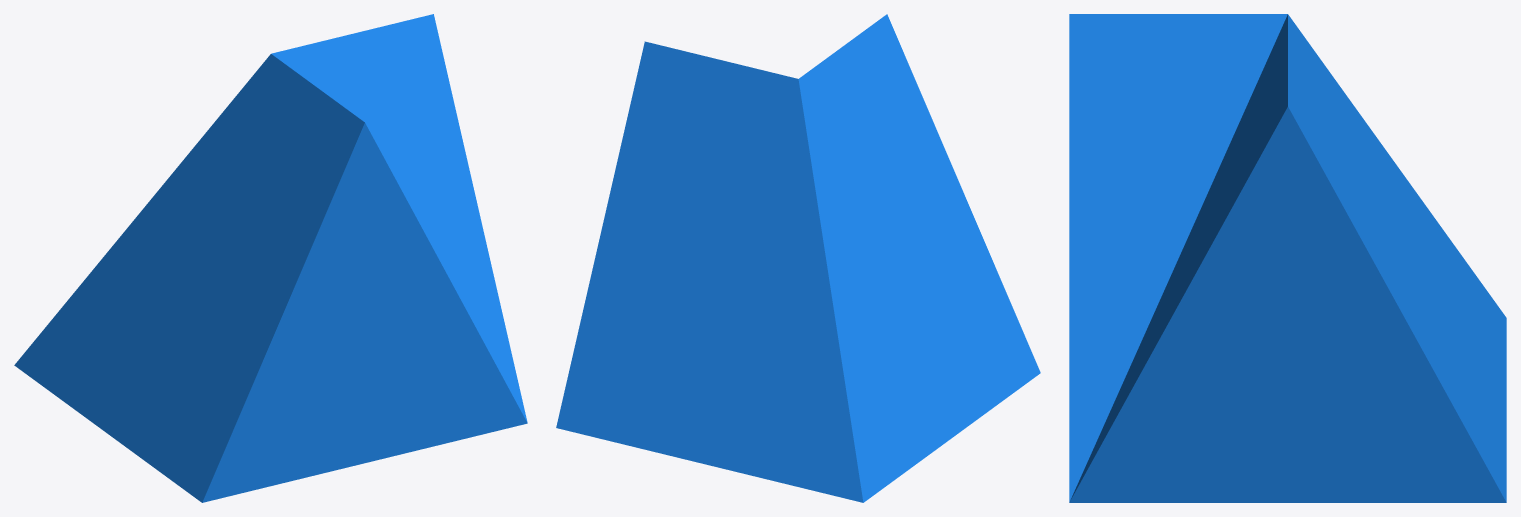
The model's file is Proto_Block_Triangle_Peak_Corner_01.fbx.
3 renders of one model, left to right at view 1: azimuth 30°, elevation 25°; view 2: azimuth 150°, elevation 25°; view 3: azimuth 270°, elevation 25°, orthographic. The views are drawn at different scales.
Parts seen in each view (by area): view 1: Proto_Block_Triangle_Peak_Corner_01; view 2: Proto_Block_Triangle_Peak_Corner_01; view 3: Proto_Block_Triangle_Peak_Corner_01.
Boxes of the visible parts, x1,y1,x2,y2 form: Proto_Block_Triangle_Peak_Corner_01: [14, 14, 527, 502]; Proto_Block_Triangle_Peak_Corner_01: [556, 14, 1040, 502]; Proto_Block_Triangle_Peak_Corner_01: [1069, 14, 1506, 502].
Size of the model in its own units: 1 by 1 by 1.
